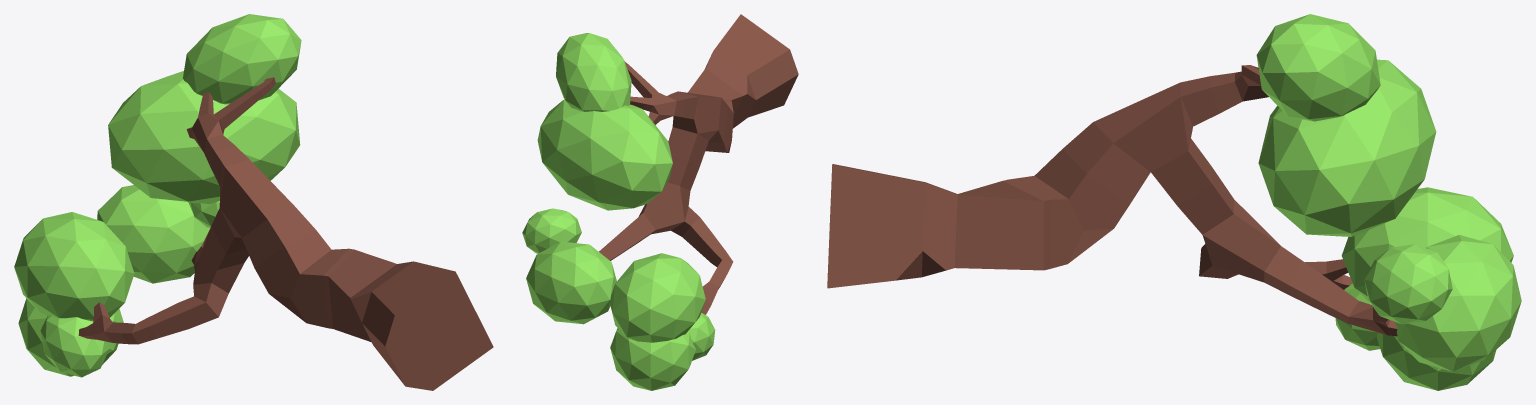
File: Arbol1.fbx
3 renders of one model, left to right at view 1: azimuth 30°, elevation 25°; view 2: azimuth 150°, elevation 25°; view 3: azimuth 270°, elevation 25°, orthographic. The views are drawn at different scales.
Parts seen in each view (by area): view 1: Icosphere.001; view 2: Icosphere.001; view 3: Icosphere.001.
Part boxes in pixels (x1,y1,x2,y2): Icosphere.001: [14, 14, 493, 390]; Icosphere.001: [522, 14, 798, 390]; Icosphere.001: [827, 14, 1521, 390].
Size of the model in its own units: 1166 by 1776 by 2514.
